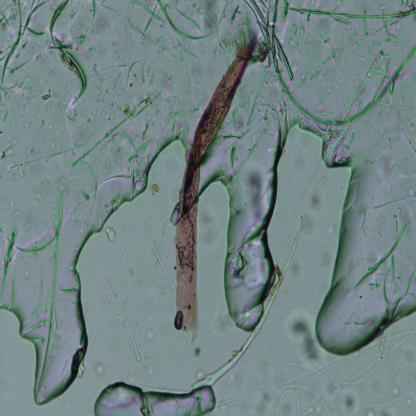Air bubble: (218, 112, 416, 357), (94, 380, 217, 416)
Background material: (251, 0, 416, 124), (72, 98, 158, 206), (315, 327, 416, 413), (355, 212, 416, 307), (0, 0, 45, 109), (131, 0, 226, 43), (285, 307, 321, 361), (150, 94, 195, 137), (27, 113, 64, 156), (0, 139, 38, 179), (94, 63, 124, 101), (81, 0, 111, 36), (218, 140, 246, 178), (126, 62, 146, 87), (42, 175, 68, 192), (252, 388, 270, 412), (317, 250, 332, 270), (102, 224, 116, 243), (192, 346, 201, 358)
Cotton: (173, 31, 259, 334)
Glass filter fibre: (192, 173, 322, 388), (37, 193, 63, 382), (88, 244, 131, 348), (47, 0, 87, 105), (0, 220, 24, 310), (142, 233, 174, 283), (124, 294, 141, 364), (274, 34, 294, 80), (275, 389, 300, 414), (22, 318, 49, 336)
